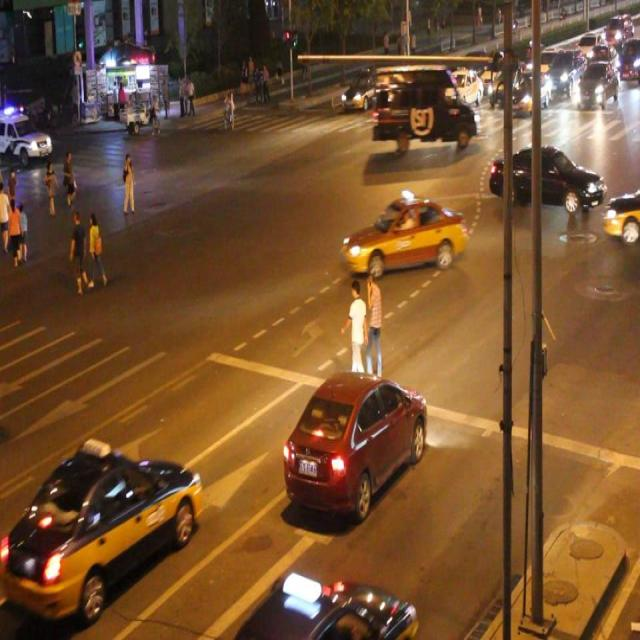car: (11, 447, 202, 620), (281, 369, 427, 519), (237, 569, 414, 640), (344, 197, 465, 275), (489, 142, 604, 212), (0, 107, 52, 167), (600, 184, 640, 242), (419, 66, 462, 112), (424, 67, 466, 108), (342, 70, 383, 110)
truck: (372, 64, 478, 149)
